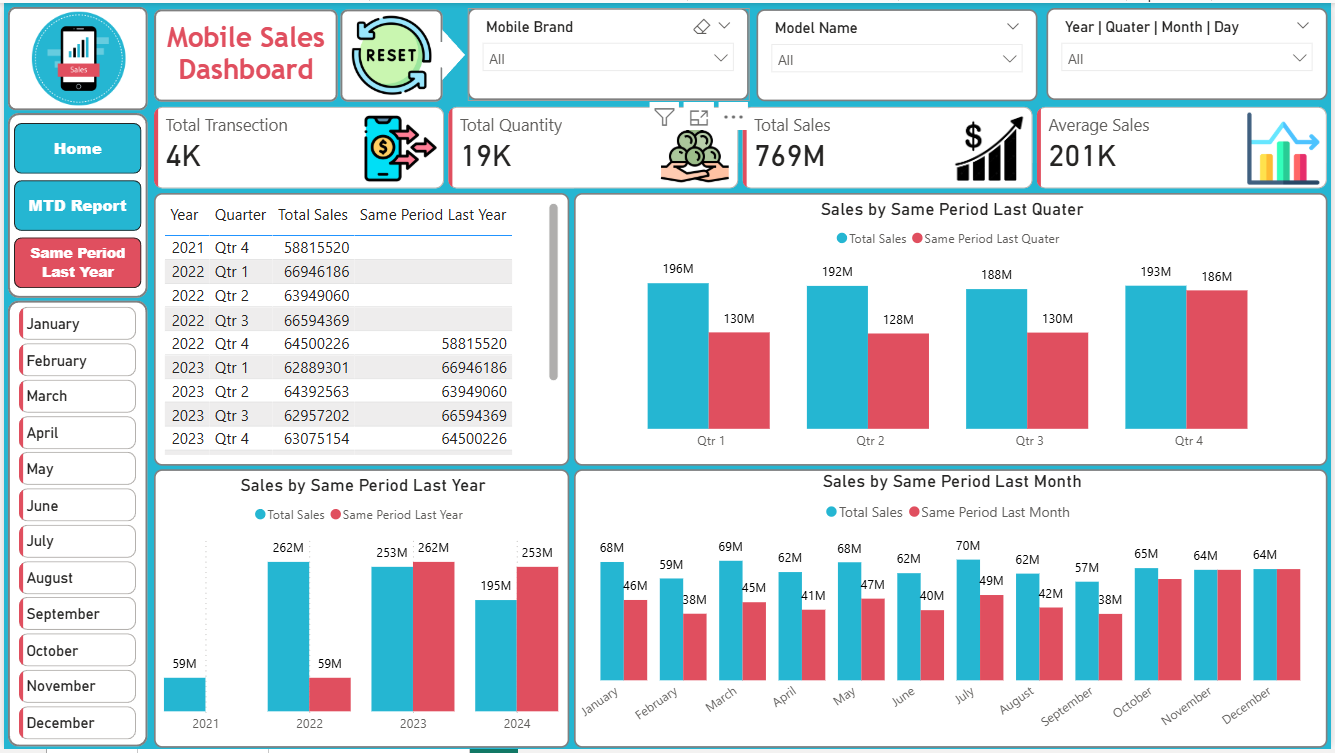

The page's visual inventory and layout, read from the dashboard file:
{"tool":"powerbi","page":{"name":"Same Period Last Year","canvas":[1280,720],"ordinal":2},"visuals":[{"type":"shape","box":[3.6,3.6,135.1,100.1],"z":0},{"type":"image","box":[20.5,3.6,102.5,100.1],"z":1000},{"type":"shape","box":[3.6,106.2,135.1,178.6],"z":2000},{"type":"shape","box":[3.6,287.1,135,430.7],"z":3000},{"type":"advancedSlicerVisual","fields":{"Values":["Custom Calender.Date.Variation.Date Hierarchy.Month"]},"box":[9.7,288.3,123.1,428.3],"z":4000},{"type":"cardVisual","fields":{"Data":["_Measures.Total Transection","_Measures.Total Quantity","_Measures.Total Sales","_Measures.Avg Sales"]},"box":[144.8,95.3,1135,89.3],"z":5000},{"type":"slicer","fields":{"Values":["Sales Data.Brand"]},"box":[447.6,4.8,271.4,89],"z":6000},{"type":"slicer","fields":{"Values":["Sales Data.Mobile Model"]},"box":[726.3,6,271.4,89],"z":7000},{"type":"slicer","fields":{"Values":["Custom Calender.Date.Variation.Date Hierarchy.Year","Custom Calender.Date.Variation.Date Hierarchy.Quarter","Custom Calender.Date.Variation.Date Hierarchy.Month","Custom Calender.Date.Variation.Date Hierarchy.Day"]},"box":[1006.2,4.8,271.4,89],"z":8000},{"type":"shape","box":[324.5,6,98.9,89.3],"z":9000},{"type":"shape","box":[144.8,6,177.3,89.3],"z":10000},{"type":"textbox","box":[144.8,13.3,177.3,71.2],"z":11000},{"type":"shape","box":[400.5,25.3,44.6,49.5],"z":12000},{"type":"image","box":[326.9,7.2,94.1,86.9],"z":13000},{"type":"tableEx","fields":{"Values":["Custom Calender.Date.Variation.Date Hierarchy.Year","Custom Calender.Date.Variation.Date Hierarchy.Quarter","_Measures.Total Sales","_Measures.Same Period Last Year"]},"box":[144.8,183.4,400.5,263],"z":14000},{"type":"clusteredColumnChart","title":"Sales by Same Period Last Year","fields":{"Category":["Custom Calender.Date.Variation.Date Hierarchy.Year","Custom Calender.Date.Variation.Date Hierarchy.Quarter"],"Y":["_Measures.Total Sales","_Measures.Same Period Last Year"]},"box":[144.8,450,400.5,269],"z":15000},{"type":"clusteredColumnChart","title":"Sales by Same Period Last Quater","fields":{"Y":["_Measures.Total Sales","_Measures.Same Period Last Year"],"Category":["Custom Calender.Date.Variation.Date Hierarchy.Year","Custom Calender.Date.Variation.Date Hierarchy.Quarter","Custom Calender.Date.Variation.Date Hierarchy.Month","Custom Calender.Date.Variation.Date Hierarchy.Day"]},"box":[550.1,183.4,727,263],"z":16000},{"type":"clusteredColumnChart","title":"Sales by Same Period Last Month","fields":{"Y":["_Measures.Total Sales","_Measures.Same Period Last Year"],"Category":["Custom Calender.Date.Variation.Date Hierarchy.Year","Custom Calender.Date.Variation.Date Hierarchy.Quarter","Custom Calender.Date.Variation.Date Hierarchy.Month","Custom Calender.Date.Variation.Date Hierarchy.Day"]},"box":[550.1,450,727,269],"z":17000},{"type":"pageNavigator","box":[9.7,115.8,123.1,159.3],"z":17001}]}

Visuals, with their boxes in screenshot pixels (x1, y1, x2, y2), scaled from the page's 1280x720 canvas onto the 1335x753 screenshot:
shape: rect(4, 4, 145, 108)
image: rect(21, 4, 128, 108)
shape: rect(4, 111, 145, 298)
shape: rect(4, 300, 145, 751)
advancedSlicerVisual - Custom Calender.Date.Variation.Date Hierarchy.Month: rect(10, 302, 139, 749)
cardVisual - _Measures.Total Transection x _Measures.Total Quantity: rect(151, 100, 1334, 193)
slicer - Sales Data.Brand: rect(467, 5, 750, 98)
slicer - Sales Data.Mobile Model: rect(758, 6, 1041, 99)
slicer - Custom Calender.Date.Variation.Date Hierarchy.Year x Custom Calender.Date.Variation.Date Hierarchy.Quarter: rect(1049, 5, 1332, 98)
shape: rect(338, 6, 442, 100)
shape: rect(151, 6, 336, 100)
textbox: rect(151, 14, 336, 88)
shape: rect(418, 26, 464, 78)
image: rect(341, 8, 439, 98)
tableEx - Custom Calender.Date.Variation.Date Hierarchy.Year x Custom Calender.Date.Variation.Date Hierarchy.Quarter: rect(151, 192, 569, 467)
"Sales by Same Period Last Year" clusteredColumnChart: rect(151, 471, 569, 752)
"Sales by Same Period Last Quater" clusteredColumnChart: rect(574, 192, 1332, 467)
"Sales by Same Period Last Month" clusteredColumnChart: rect(574, 471, 1332, 752)
pageNavigator: rect(10, 121, 139, 288)
